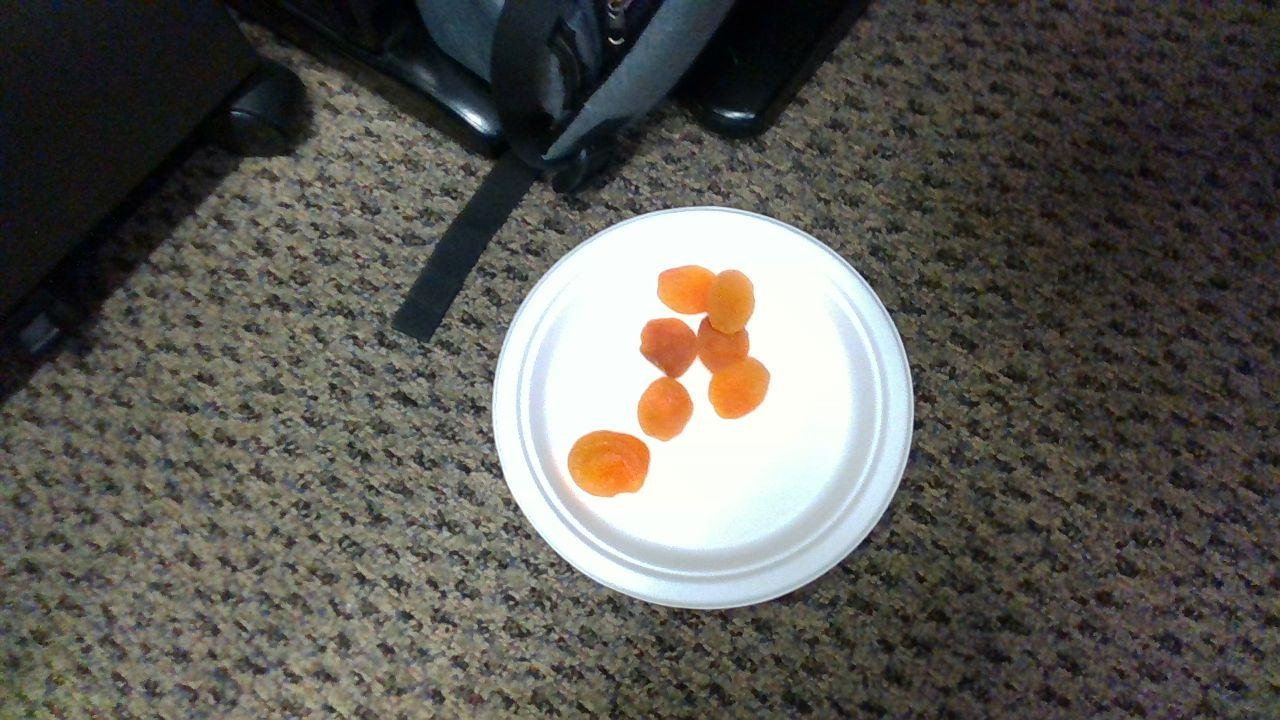apricot: (568, 431, 650, 497), (638, 377, 694, 442), (709, 358, 768, 419), (640, 318, 698, 379), (709, 269, 755, 334), (659, 265, 717, 314)
